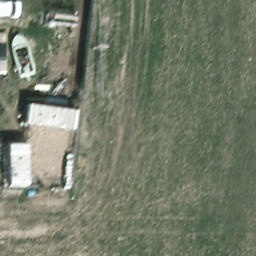boat: (8, 31, 39, 80)
camping car: (27, 101, 81, 132), (4, 142, 33, 190)
car: (0, 29, 9, 80)
van: (0, 0, 26, 20)
